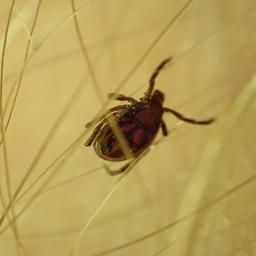Rhipicephalus sanguineus: (158, 44, 254, 171)
